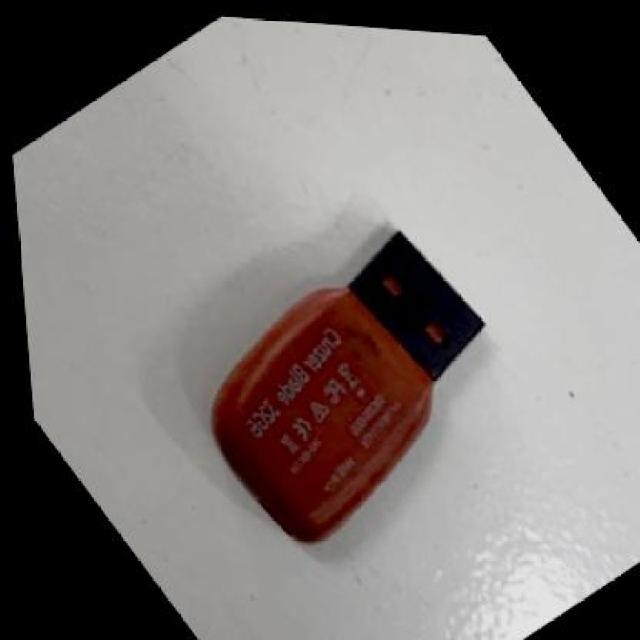Flashdisk: (132, 181, 556, 577)
